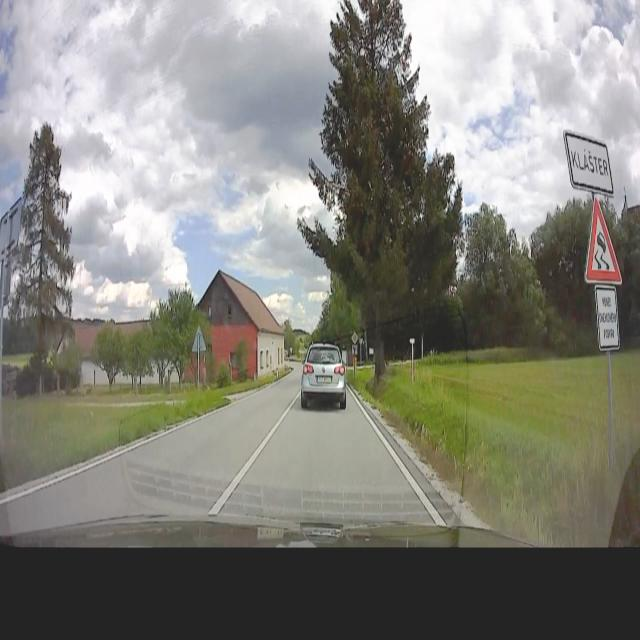Priority road: (350, 326, 360, 346)
